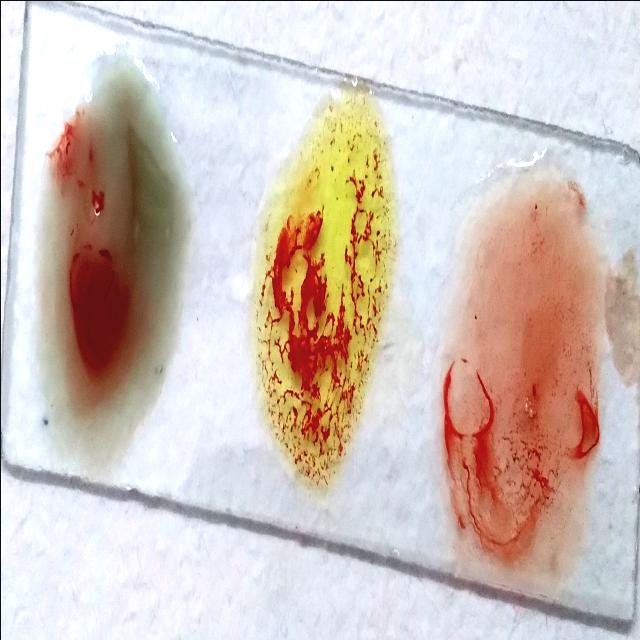B: (258, 85, 390, 495)
D: (443, 179, 593, 573)
